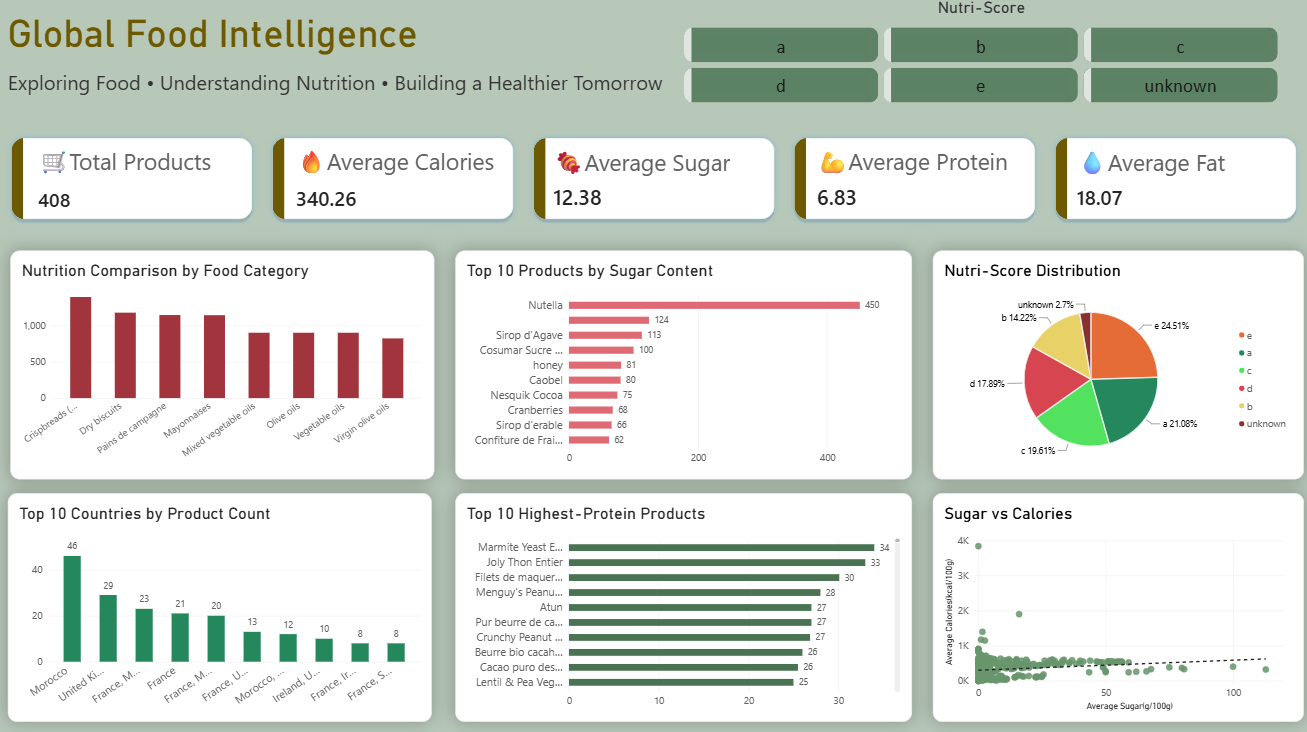

Layout of this report page (visuals, bound fields, positions):
{"tool":"powerbi","page":{"name":"food_intelligence_dashboard","canvas":[1920,1080],"ordinal":0},"visuals":[{"type":"cardVisual","fields":{"Data":["Count(food_intelligence food_products_transformed.barcode)","Avg(food_intelligence food_products_transformed.calories)","Avg(food_intelligence food_products_transformed.sugars)","Avg(food_intelligence food_products_transformed.proteins)","Avg(food_intelligence food_products_transformed.fat)"]},"box":[8,194.9,1908.8,141.5],"z":0},{"type":"clusteredColumnChart","title":"Nutrition Comparison by Food Category","fields":{"Category":["food_intelligence food_products_transformed.primary_category"],"Y":["Avg(food_intelligence food_products_transformed.calories)"]},"box":[16,371.1,622,336.4],"z":1000},{"type":"textbox","box":[11,0,1909,195],"z":2000},{"type":"textbox","title":"Global Food Intelligence","box":[0,0,1908.8,178.9],"z":3000},{"type":"clusteredBarChart","title":"Top 10 Products by Sugar Content","fields":{"Category":["food_intelligence food_products_transformed.product_name"],"Y":["Sum(food_intelligence food_products_transformed.sugars)"]},"box":[670.1,371.1,670.1,336.4],"z":4000},{"type":"pieChart","title":"Nutri-Score Distribution","fields":{"Category":["food_intelligence food_products_transformed.nutriscore_grade"],"Y":["CountNonNull(food_intelligence food_products_transformed.barcode)"]},"box":[1369.5,371.1,544.6,336.4],"z":5000},{"type":"clusteredColumnChart","title":"Top 10 Countries by Product Count","fields":{"Category":["food_intelligence food_products_transformed.countries"],"Y":["Count(food_intelligence food_products_transformed.barcode)"]},"box":[13.3,726.2,622,336.4],"z":6000},{"type":"clusteredBarChart","title":"Top 10 Highest-Protein Products","fields":{"Category":["food_intelligence food_products_transformed.product_name"],"Y":["Avg(food_intelligence food_products_transformed.proteins)"]},"box":[670.1,726.2,670.1,336.4],"z":7000},{"type":"scatterChart","title":"Sugar vs Calories","fields":{"Category":["food_intelligence food_products_transformed.product_name"],"X":["Avg(food_intelligence food_products_transformed.sugars)"],"Y":["Avg(food_intelligence food_products_transformed.calories)"]},"box":[1369.5,726.2,544.6,336.4],"z":8000},{"type":"advancedSlicerVisual","title":"Nutri-Score","fields":{"Label":["food_intelligence food_products_transformed.NutriScoreColor"],"Values":["food_intelligence food_products_transformed.nutriscore_grade"]},"box":[1005.2,0,873,160.2],"z":9000}]}

Visuals, with their boxes in screenshot pixels (x1, y1, x2, y2), scaled from the page's 1920x1080 canvas onto the 1307x732 screenshot:
cardVisual - Count(food_intelligence food_products_transformed.barcode) x Avg(food_intelligence food_products_transformed.calories): <box>5,132,1305,228</box>
"Nutrition Comparison by Food Category" clusteredColumnChart: <box>11,252,434,480</box>
textbox: <box>7,0,1306,132</box>
"Global Food Intelligence" textbox: <box>0,0,1299,121</box>
"Top 10 Products by Sugar Content" clusteredBarChart: <box>456,252,912,480</box>
"Nutri-Score Distribution" pieChart: <box>932,252,1303,480</box>
"Top 10 Countries by Product Count" clusteredColumnChart: <box>9,492,432,720</box>
"Top 10 Highest-Protein Products" clusteredBarChart: <box>456,492,912,720</box>
"Sugar vs Calories" scatterChart: <box>932,492,1303,720</box>
"Nutri-Score" advancedSlicerVisual: <box>684,0,1279,109</box>
